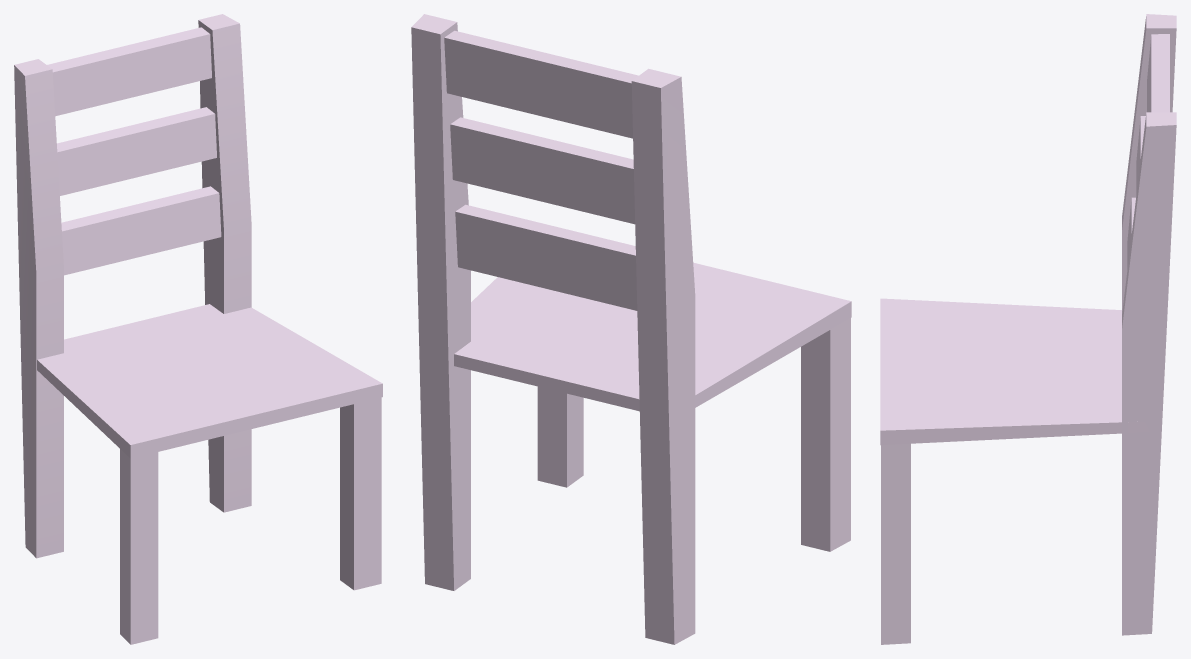
Rendered from Chair.fbx.
3 views of the same model, side by side, from view 1: azimuth 30°, elevation 25°; view 2: azimuth 150°, elevation 25°; view 3: azimuth 270°, elevation 25° (orthographic). The views are drawn at different scales.
Parts seen in each view (by area): view 1: Chair; view 2: Chair; view 3: Chair.
Boxes of the visible parts, left/top/right/bottom form: Chair: left=14, top=14, right=382, bottom=644; Chair: left=411, top=14, right=851, bottom=644; Chair: left=880, top=14, right=1176, bottom=644.
Bounding box in the file's own units: 0.7028 × 1.26 × 0.6656.
